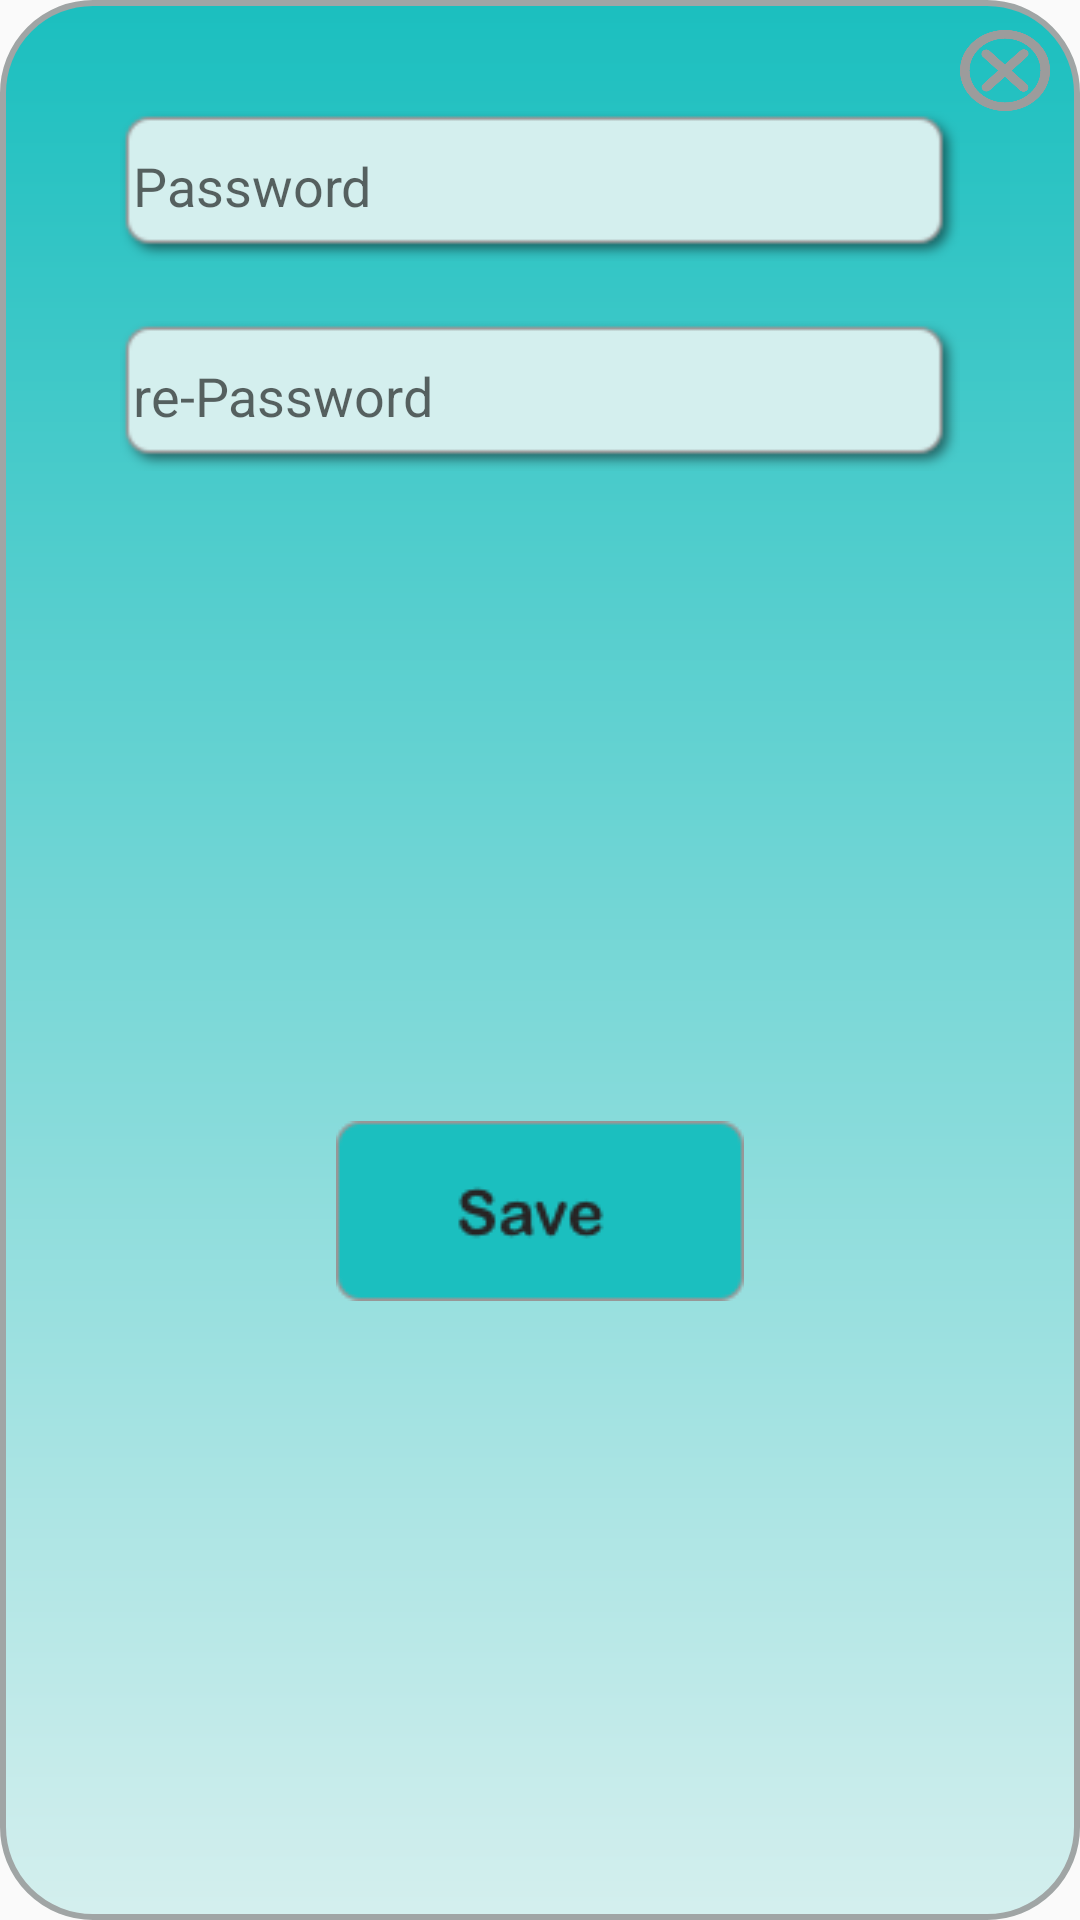

Screen size 1080*1920. Icon name, then its center in pixels as [x,y]:
exit: [1005,70]
